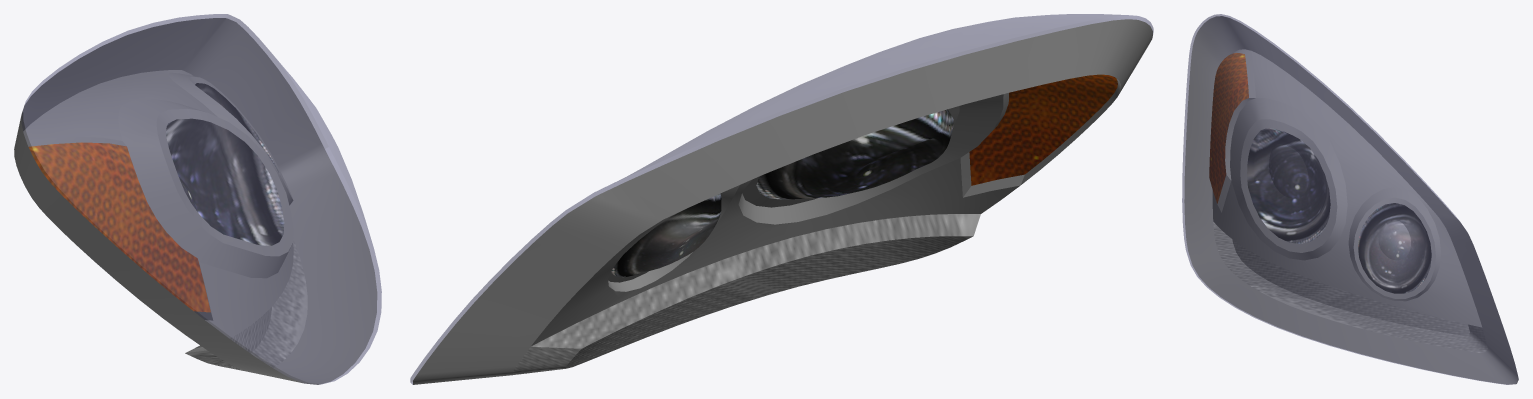
3 views of the same model, side by side, from view 1: azimuth 30°, elevation 25°; view 2: azimuth 150°, elevation 25°; view 3: azimuth 270°, elevation 25° (orthographic). The views are drawn at different scales.
Visible parts, largest first — view 1: H612_061B_R_H612_061B_R_7_DTaSI, H612_061B_R_H612_061B_R_5_DaS, H612_061B_R_H612_061B_R_4_N, H612_061B_R_H612_061B_R_2_N, H612_061B_R_1_N_H612_061B_R, H612_061B_R_H612_061B_R_3_N; view 2: H612_061B_R_H612_061B_R_5_DaS, H612_061B_R_1_N_H612_061B_R, H612_061B_R_H612_061B_R_7_DTaSI, H612_061B_R_H612_061B_R_2_N, H612_061B_R_H612_061B_R_4_N, H612_061B_R_H612_061B_R_3_N; view 3: H612_061B_R_H612_061B_R_7_DTaSI, H612_061B_R_H612_061B_R_5_DaS, H612_061B_R_1_N_H612_061B_R, H612_061B_R_H612_061B_R_2_N, H612_061B_R_H612_061B_R_3_N, H612_061B_R_H612_061B_R_4_N.
Part boxes in pixels (x1,y1,x2,y2): H612_061B_R_H612_061B_R_7_DTaSI: [22, 14, 381, 384]; H612_061B_R_H612_061B_R_5_DaS: [14, 18, 377, 384]; H612_061B_R_H612_061B_R_4_N: [29, 142, 210, 312]; H612_061B_R_H612_061B_R_2_N: [166, 118, 284, 245]; H612_061B_R_1_N_H612_061B_R: [185, 240, 307, 371]; H612_061B_R_H612_061B_R_3_N: [195, 83, 279, 173]; H612_061B_R_H612_061B_R_5_DaS: [413, 19, 1152, 384]; H612_061B_R_1_N_H612_061B_R: [513, 214, 980, 374]; H612_061B_R_H612_061B_R_7_DTaSI: [410, 14, 1153, 384]; H612_061B_R_H612_061B_R_2_N: [756, 109, 953, 199]; H612_061B_R_H612_061B_R_4_N: [969, 74, 1117, 185]; H612_061B_R_H612_061B_R_3_N: [611, 193, 721, 277]; H612_061B_R_H612_061B_R_7_DTaSI: [1182, 14, 1518, 384]; H612_061B_R_H612_061B_R_5_DaS: [1184, 16, 1518, 384]; H612_061B_R_1_N_H612_061B_R: [1213, 222, 1487, 352]; H612_061B_R_H612_061B_R_2_N: [1247, 128, 1330, 243]; H612_061B_R_H612_061B_R_3_N: [1358, 203, 1431, 293]; H612_061B_R_H612_061B_R_4_N: [1209, 53, 1248, 203].
Bounding box in the file's own units: 47.26 × 29.51 × 41.79.
